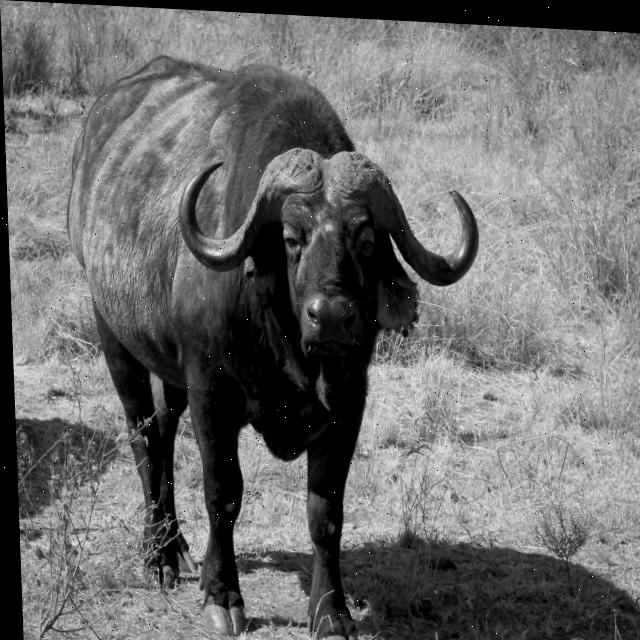Buffalo: (57, 51, 488, 640)
